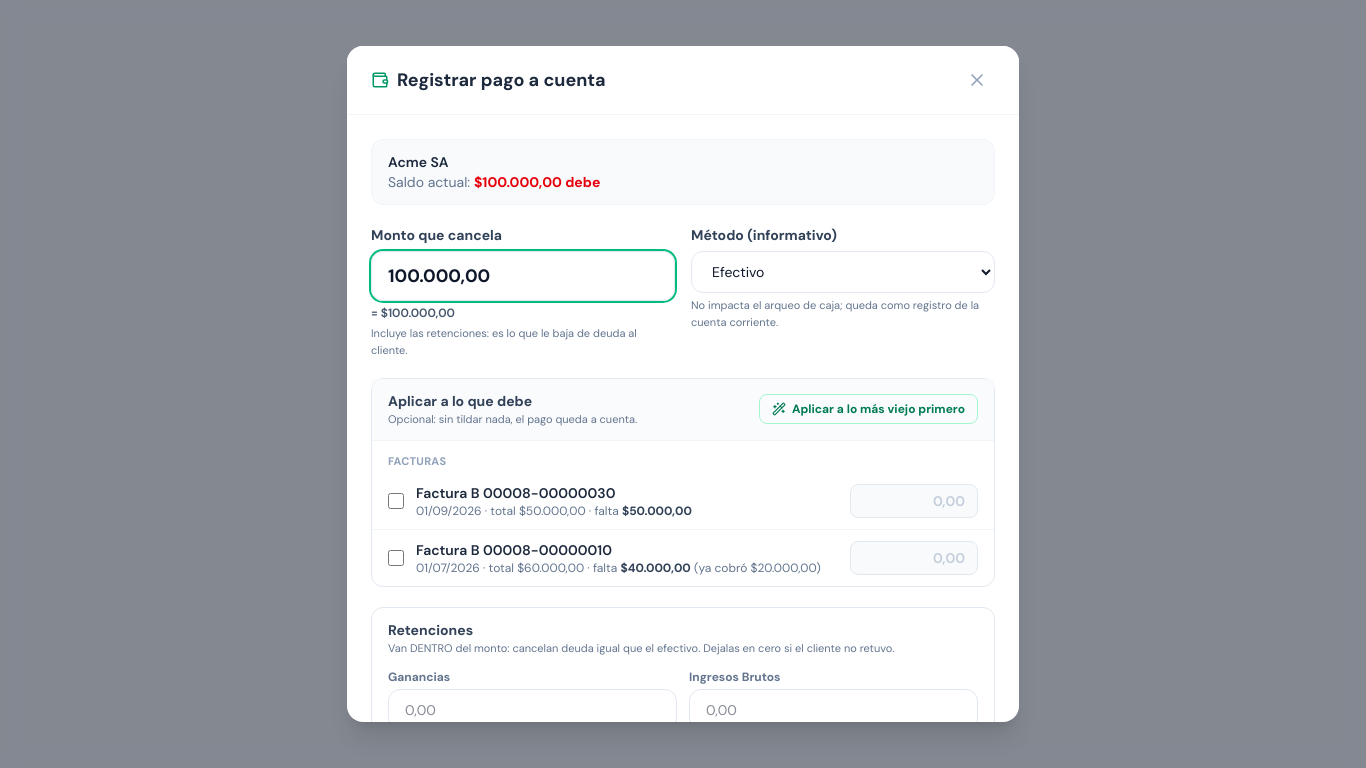
RegisterPaymentModal › no deja mandar una imputación que se pasa del saldo de la factura
Click the checkbox named "Aplicar a Factura B 00008-00000010" at (396, 558), box [388,550,404,566]
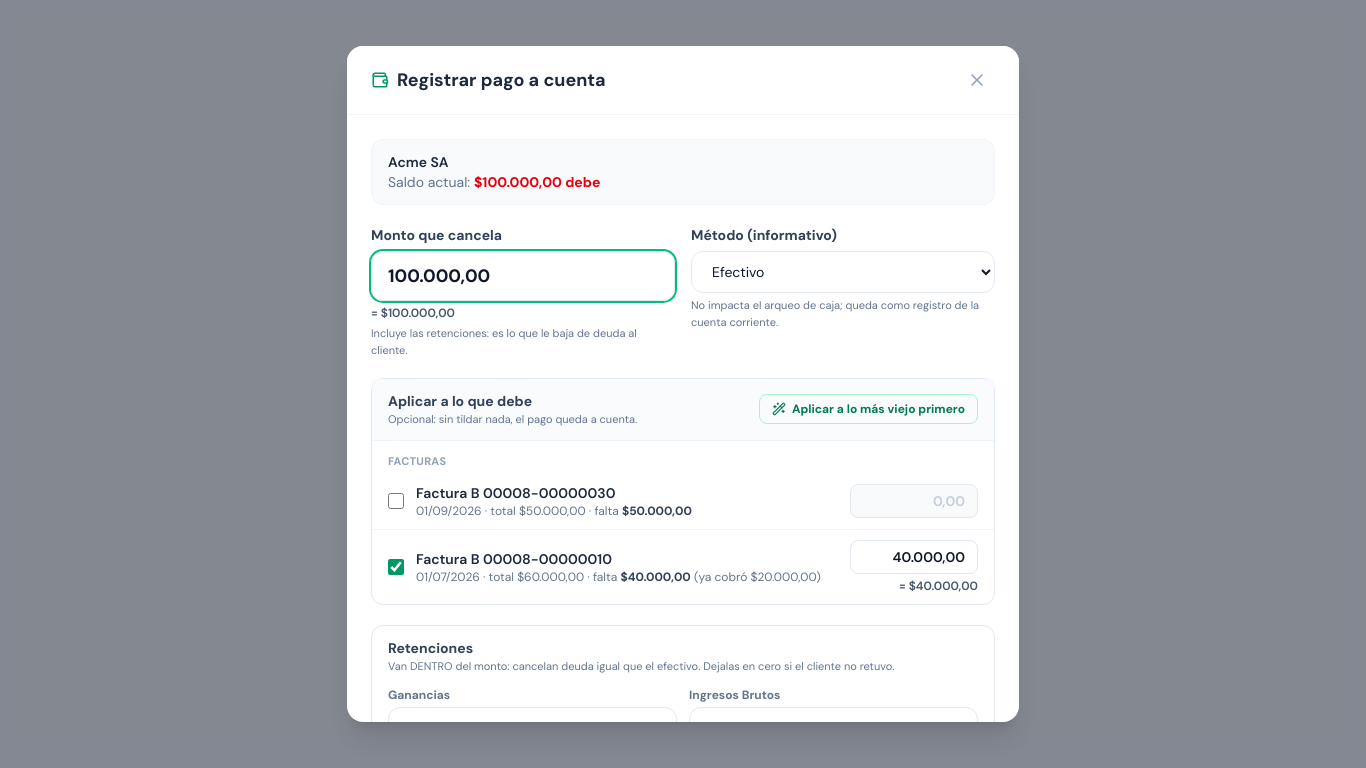
Replace the text in the field named "Importe aplicado a Factura B 00008-00000010" with "45000" at (914, 557), box [850,540,978,574]
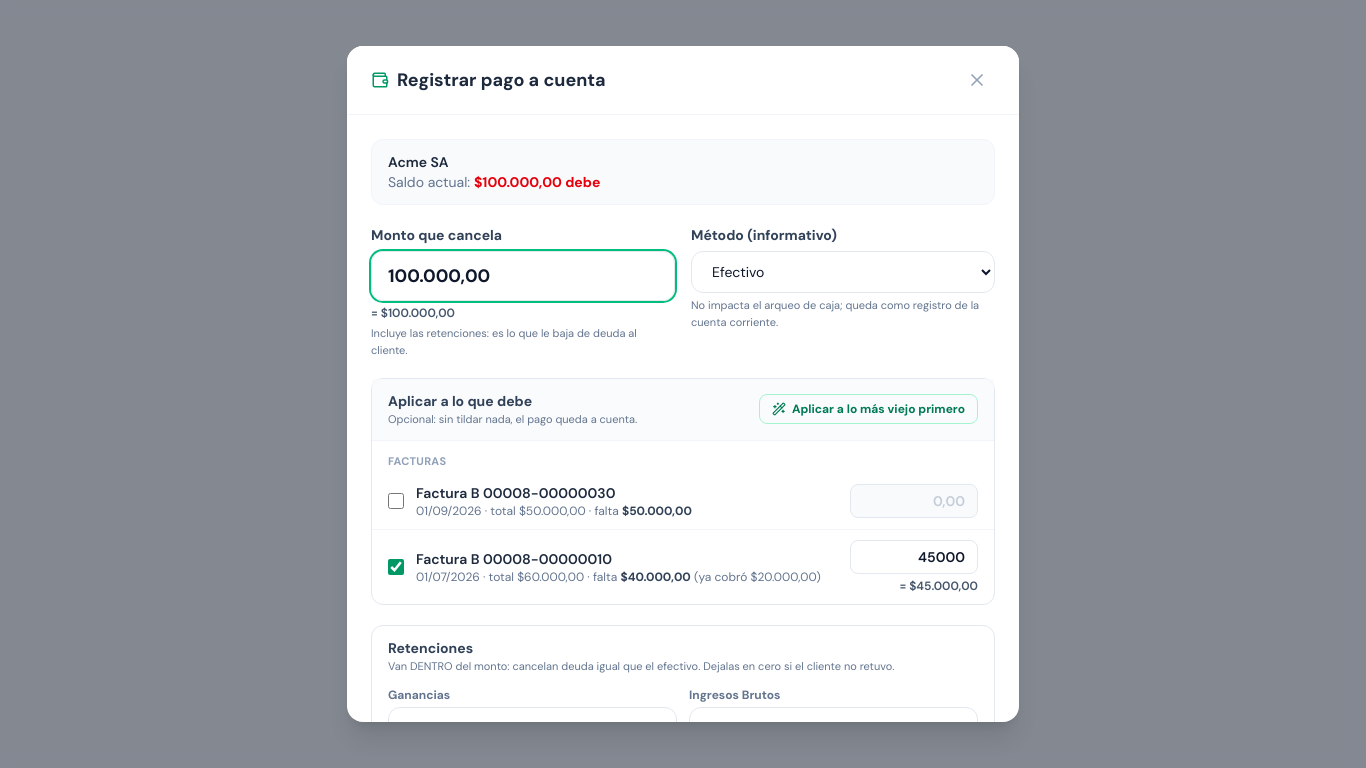
// Corregido al saldo exacto, se puede guardar: el caso límite tiene que entrar.
Replace the text in the field named "Importe aplicado a Factura B 00008-00000010" with "40000" at (914, 557), box [850,540,978,574]
(page scrolled)
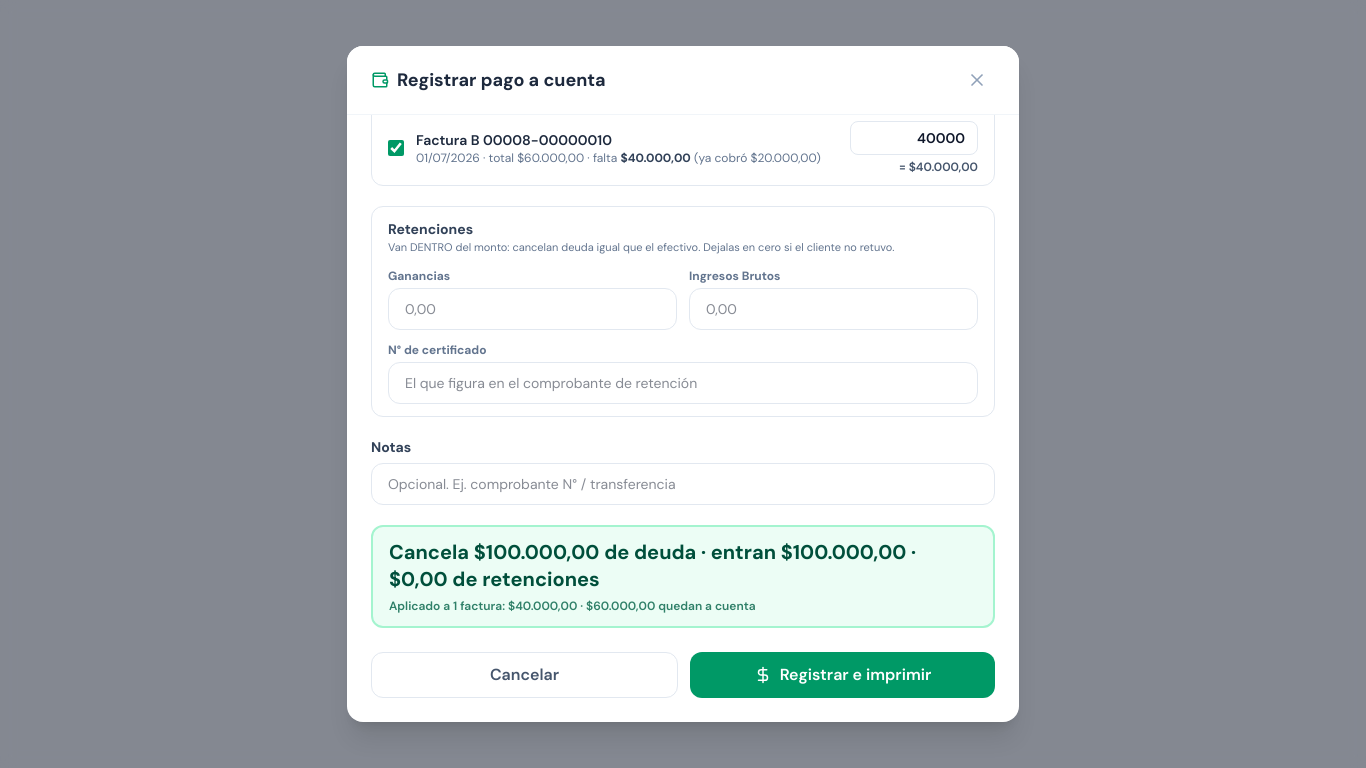
Result: the button "Registrar e imprimir" is enabled at [690,652,995,698]
